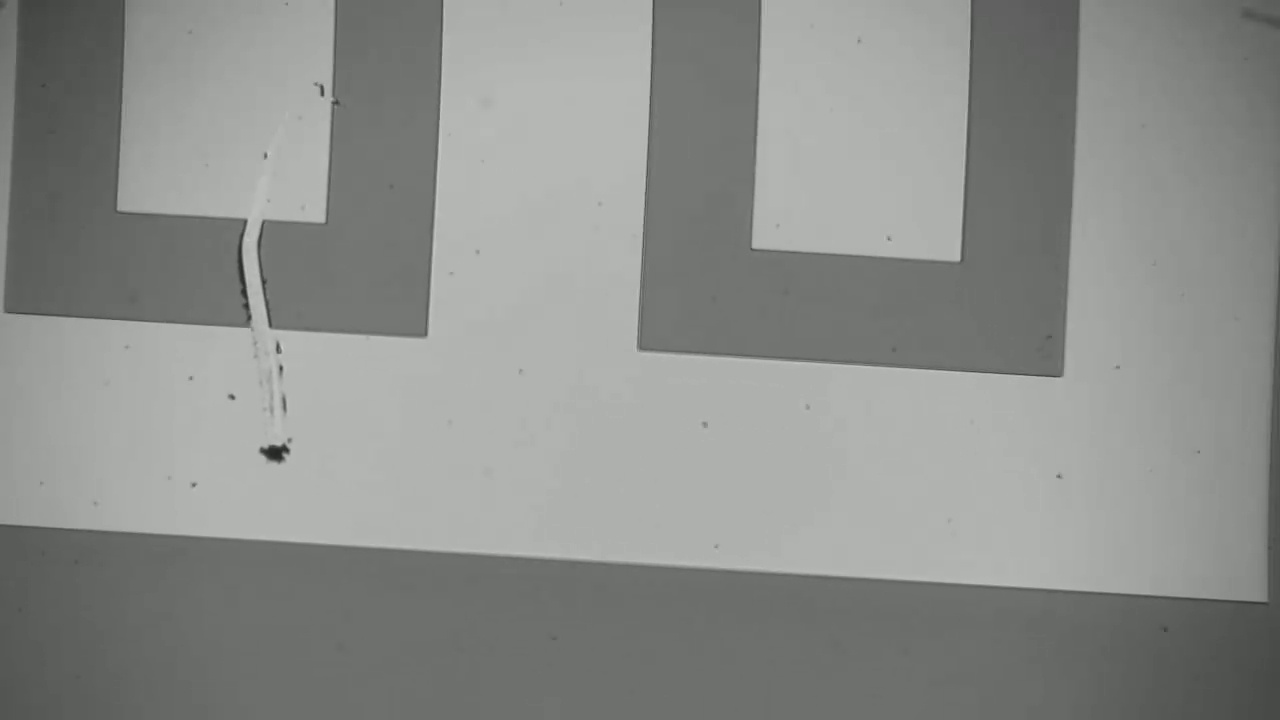Short_circuit: (214, 196, 283, 356)
